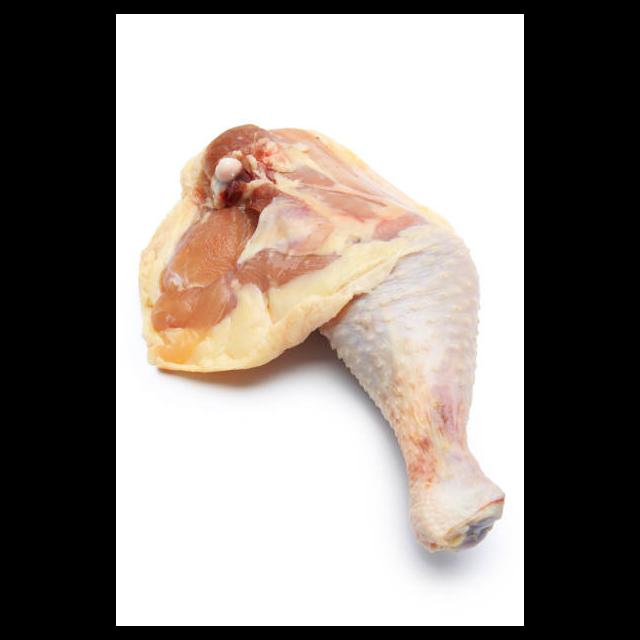chicken: (137, 122, 505, 551)
